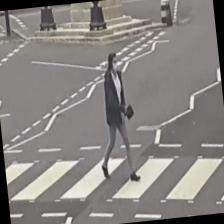person: (90, 51, 140, 182)
